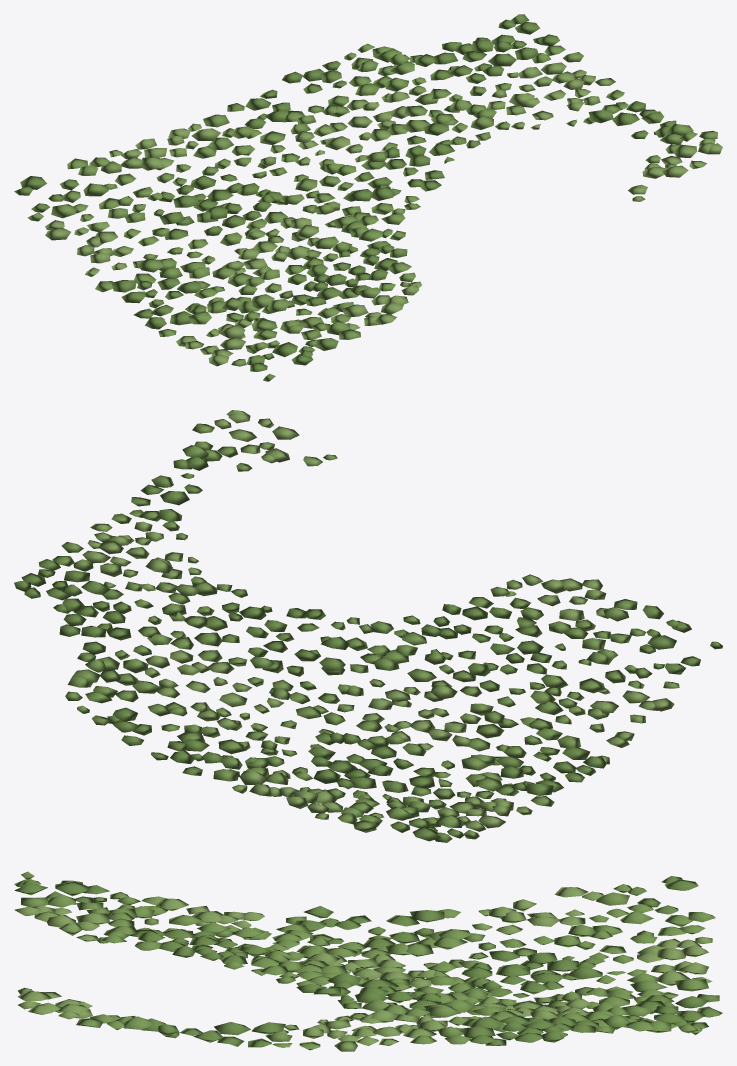
The model's file is canopy-1--4-5.glb.
The picture shows the model from 3 angles, top to bottom: view 1: azimuth 30°, elevation 25°; view 2: azimuth 150°, elevation 25°; view 3: azimuth 270°, elevation 25°; orthographic projection. The views are drawn at different scales.
Size of the model in its own units: 515 by 160 by 515.
1 material, 1 textured.
